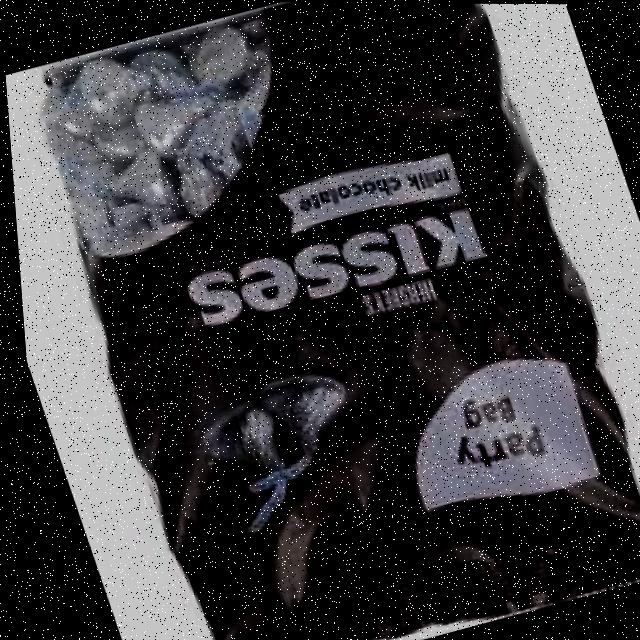kisses: (182, 393, 307, 512), (244, 357, 355, 470), (42, 46, 166, 145), (121, 73, 229, 162), (81, 142, 176, 232)
